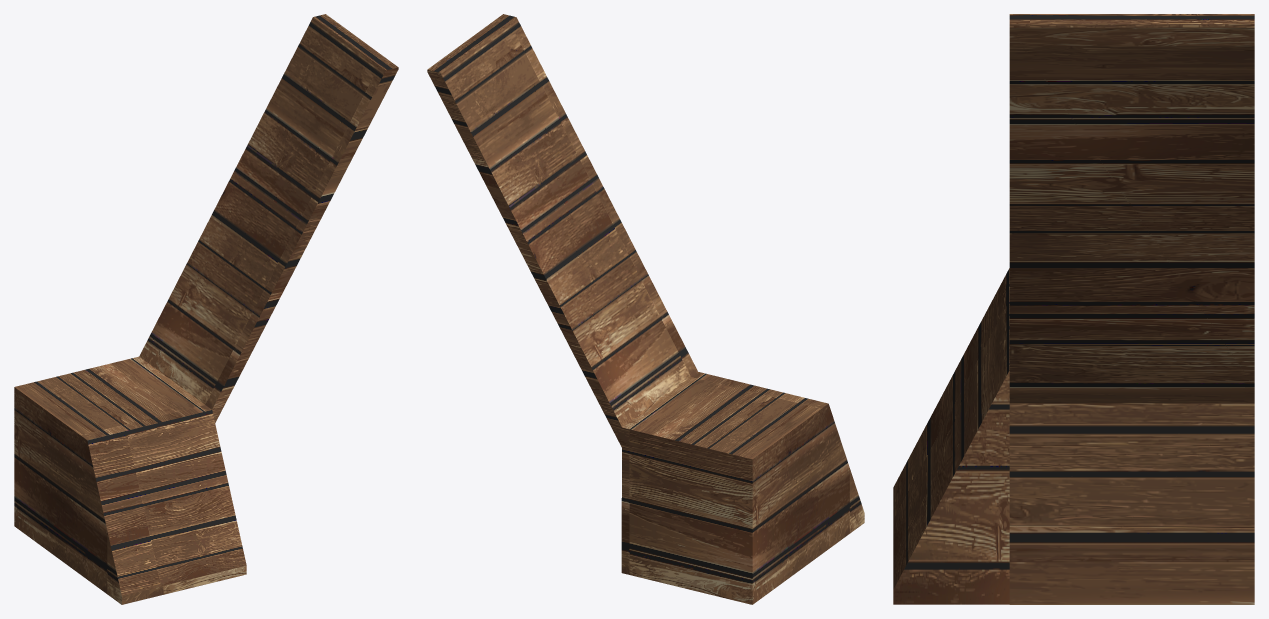
File: stairs.glb
3 renders of one model, left to right at view 1: azimuth 30°, elevation 25°; view 2: azimuth 150°, elevation 25°; view 3: azimuth 270°, elevation 25°, orthographic. The views are drawn at different scales.
Parts seen in each view (by area): view 1: Ledder; view 2: Ledder; view 3: Ledder.
Part boxes in pixels (bbox=[...]): Ledder: bbox=[14, 14, 398, 604]; Ledder: bbox=[427, 14, 864, 604]; Ledder: bbox=[893, 14, 1254, 604].
Size of the model in its own units: 1.49 by 2 by 0.8927.
Materials: 1 (1 with a texture image).
